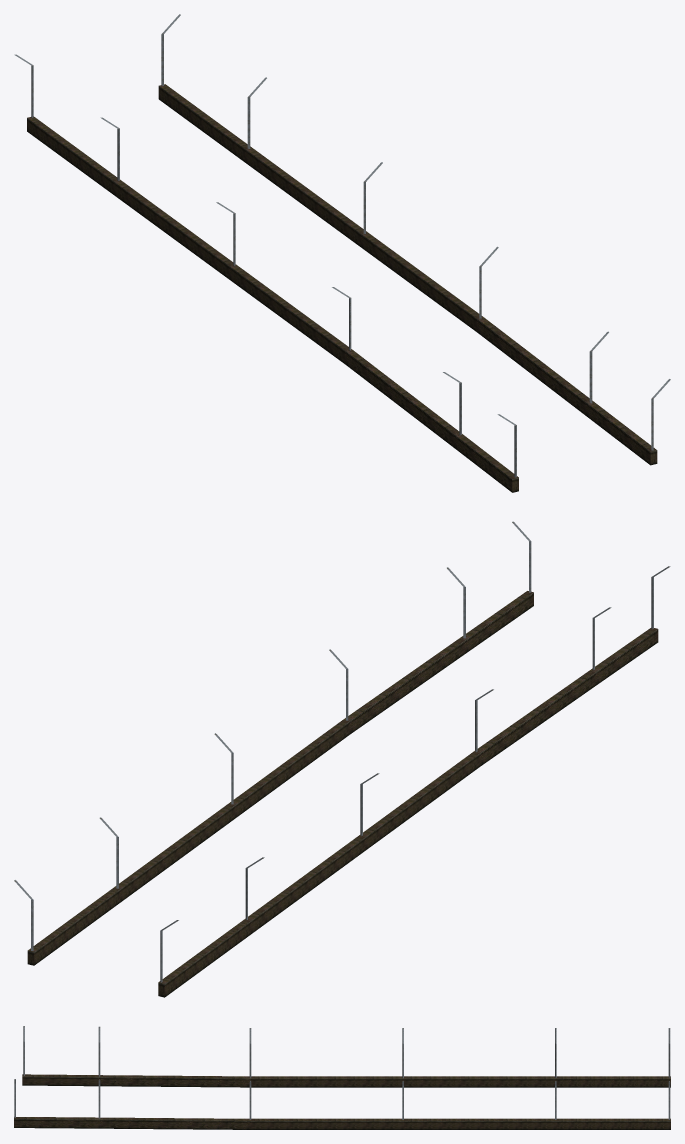
Rendered from vgsetrainfence05.obj.
The picture shows the model from 3 angles, top to bottom: view 1: azimuth 30°, elevation 25°; view 2: azimuth 150°, elevation 25°; view 3: azimuth 270°, elevation 25°; orthographic projection. The views are drawn at different scales.
Visible parts, largest first — view 1: vgsEtrainfence05; view 2: vgsEtrainfence05; view 3: vgsEtrainfence05.
Part boxes in pixels (x1,y1,x2,y2): vgsEtrainfence05: [14, 14, 670, 492]; vgsEtrainfence05: [14, 521, 670, 997]; vgsEtrainfence05: [14, 1026, 670, 1129].
Bounding box in the file's own units: 13.74 × 6.15 × 68.88.
2 materials, 2 textured.
